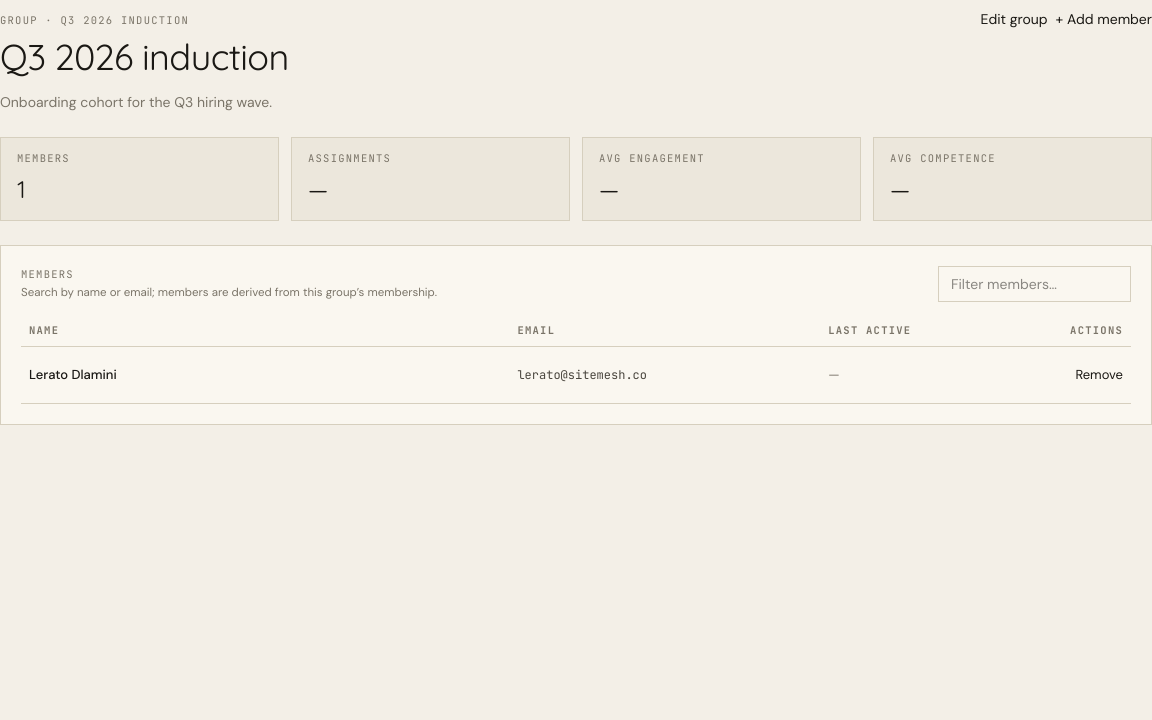
Test: group detail — remove member flow (drift Finding #7) › opens Modal confirm + DELETEs on confirm
This screenshot has width=1152, height=720.
Expected: the text "Lerato Dlamini" is shown, left=21, top=347, right=509, bottom=404
Click the button "Remove" at (1099, 375), box left=1075, top=357, right=1123, bottom=393
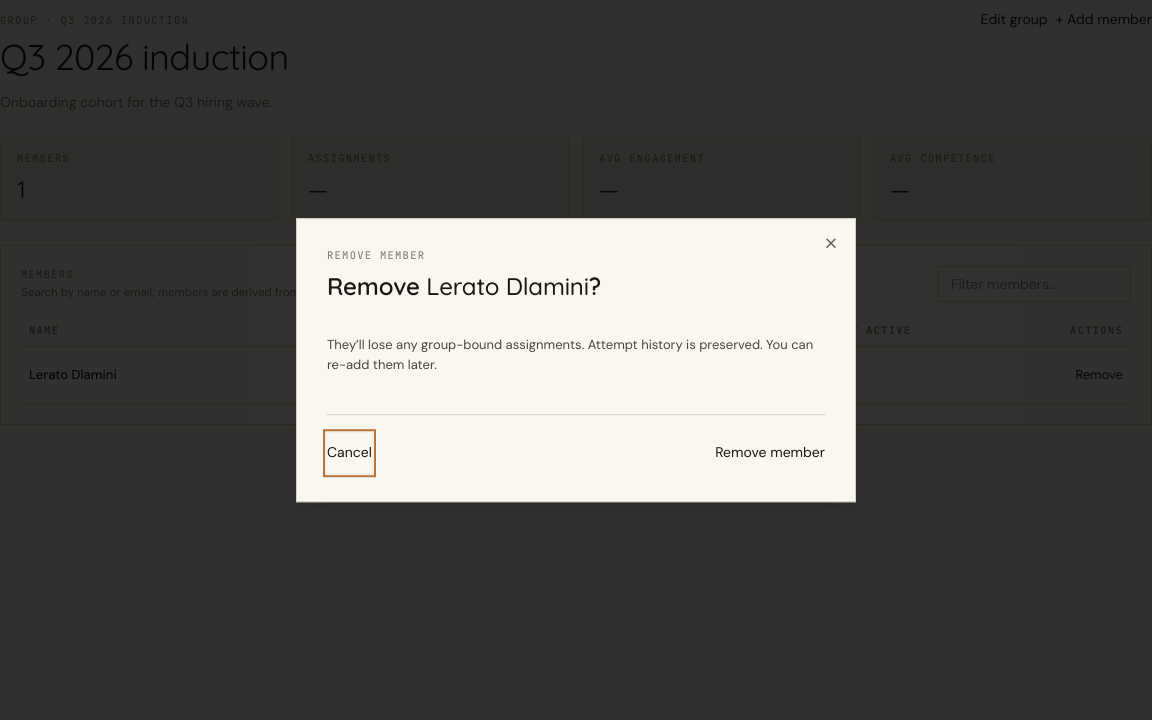
Expected: the button with test id "members-remove-confirm" is shown
Click the button with test id "members-remove-confirm" at (770, 453), box left=715, top=433, right=825, bottom=473
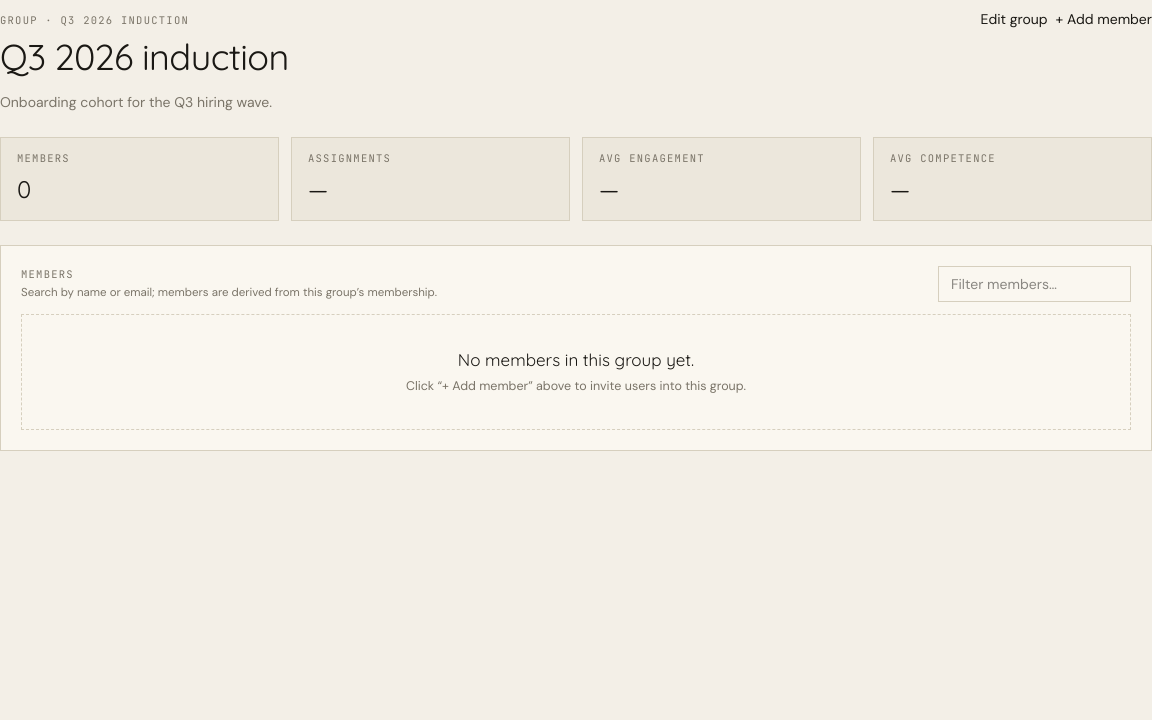
Expected: the text "Lerato Dlamini" is gone
